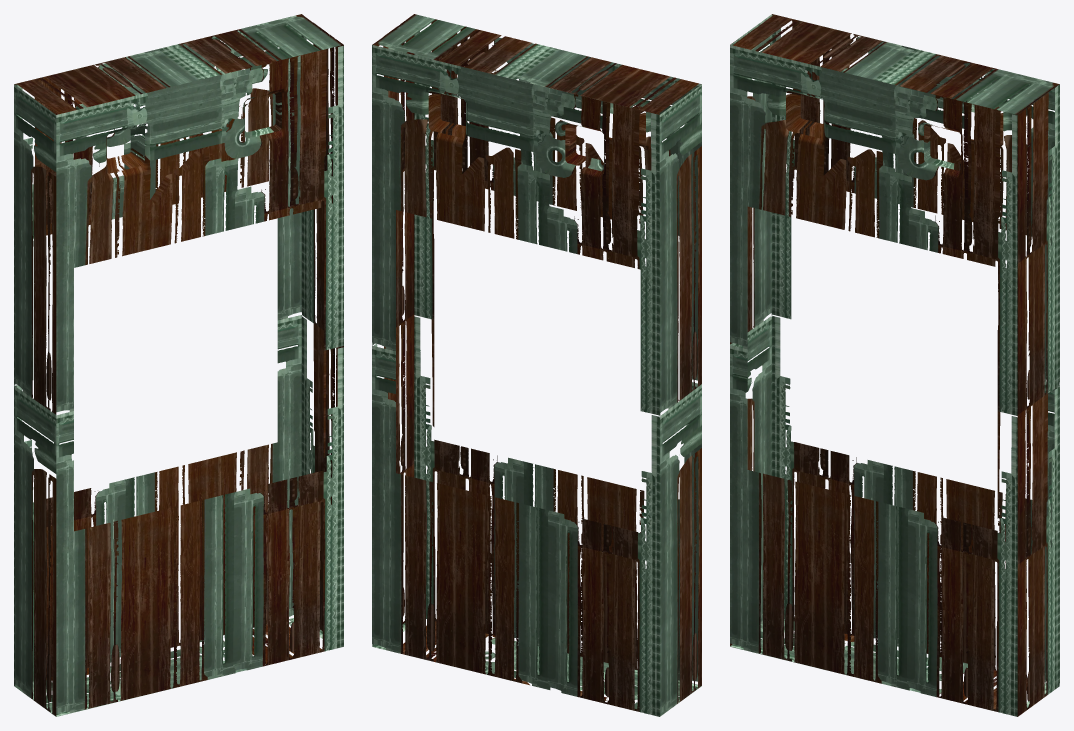
3 renders of one model, left to right at view 1: azimuth 30°, elevation 25°; view 2: azimuth 150°, elevation 25°; view 3: azimuth 330°, elevation 25°, orthographic.
Visible parts, largest first — view 1: SM_BB_T4_Door_02_LOD0; view 2: SM_BB_T4_Door_02_LOD0; view 3: SM_BB_T4_Door_02_LOD0.
Part boxes in pixels (x1,y1,x2,y2): SM_BB_T4_Door_02_LOD0: (14,14,343,716); SM_BB_T4_Door_02_LOD0: (372,14,701,716); SM_BB_T4_Door_02_LOD0: (730,14,1059,716).
Size of the model in its own units: 1.5 by 3 by 0.3805.
